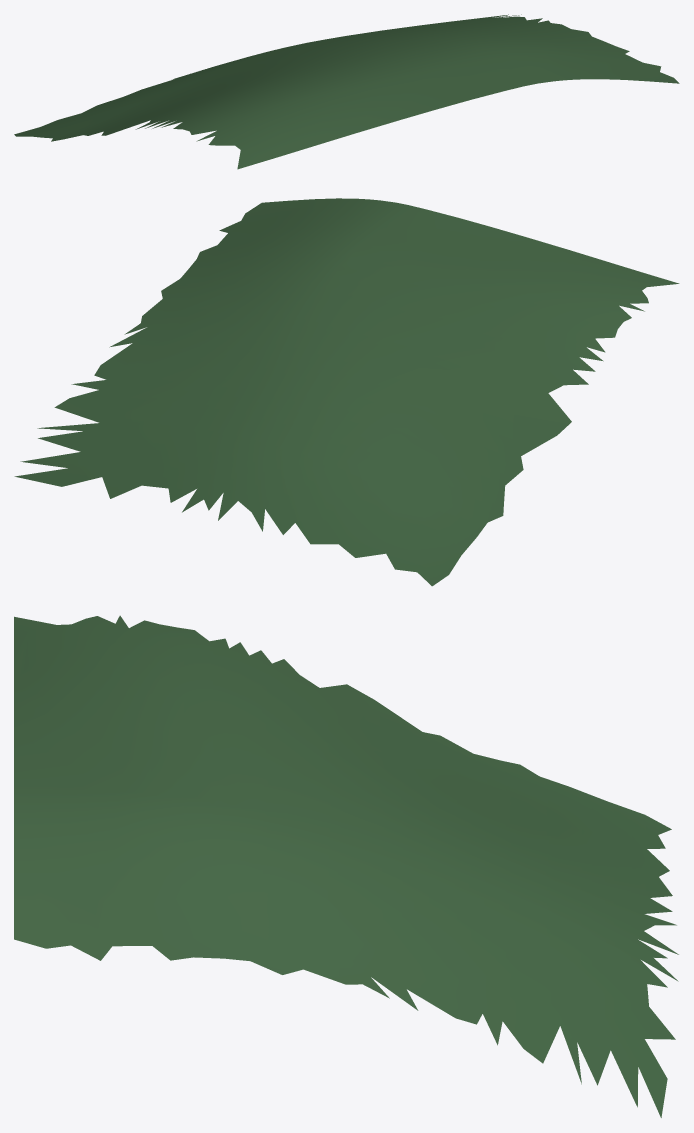
The model's file is payo_land_x1_y10.glb.
The picture shows the model from 3 angles, top to bottom: view 1: azimuth 30°, elevation 25°; view 2: azimuth 150°, elevation 25°; view 3: azimuth 270°, elevation 25°; orthographic projection. The views are drawn at different scales.
Visible parts, largest first — view 1: payo_land_x1_y10; view 2: payo_land_x1_y10; view 3: payo_land_x1_y10.
Part boxes in pixels (x1=…): payo_land_x1_y10: x1=14, y1=14, x2=679, y2=169; payo_land_x1_y10: x1=14, y1=198, x2=679, y2=586; payo_land_x1_y10: x1=14, y1=615, x2=678, y2=1117.
Bounding box in the file's own units: 283 × 90.14 × 250.
